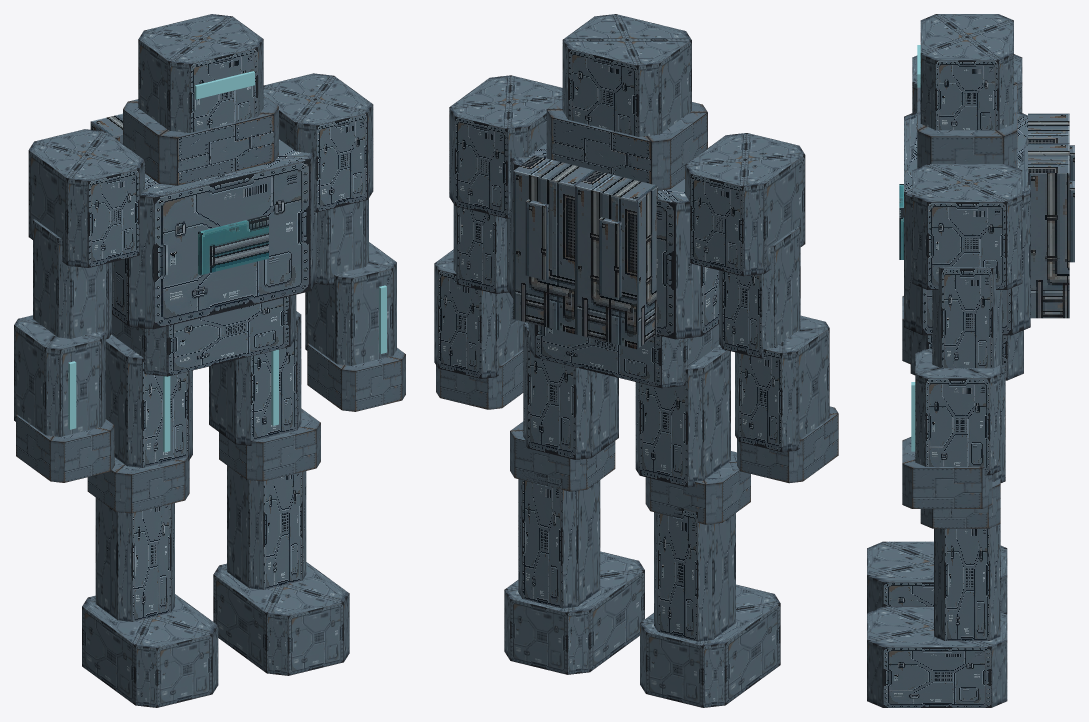
Rendered from sentinel_mech.glb.
3 views of the same model, side by side, from view 1: azimuth 30°, elevation 25°; view 2: azimuth 150°, elevation 25°; view 3: azimuth 270°, elevation 25° (orthographic). The views are drawn at different scales.
Parts seen in each view (by area): view 1: sentinel_mech; view 2: sentinel_mech; view 3: sentinel_mech.
Part boxes in pixels (x1,y1,x2,y2): sentinel_mech: (14, 14, 405, 707); sentinel_mech: (434, 14, 838, 707); sentinel_mech: (867, 14, 1074, 707).
Bounding box in the file's own units: 6.22 × 10.2 × 3.11.
Materials: 3 (2 with a texture image).
